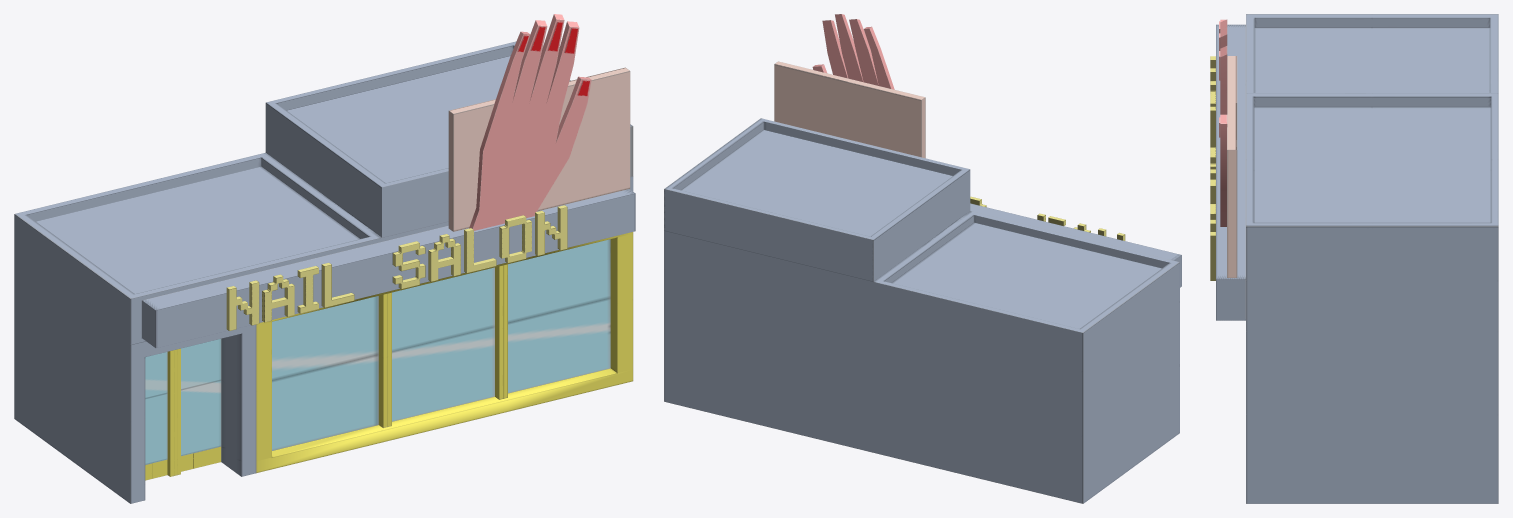
The model's file is nail_salon_withbillboard.fbx.
3 renders of one model, left to right at view 1: azimuth 30°, elevation 25°; view 2: azimuth 150°, elevation 25°; view 3: azimuth 270°, elevation 25°, orthographic. The views are drawn at different scales.
Visible parts, largest first — view 1: polySurface5, polySurface6; view 2: polySurface5; view 3: polySurface5, polySurface6.
Boxes of the visible parts, box(x1,y1,x2,y2) form: polySurface5: box(14, 14, 635, 503); polySurface6: box(226, 205, 567, 330); polySurface5: box(664, 14, 1181, 503); polySurface5: box(1216, 14, 1498, 503); polySurface6: box(1210, 56, 1215, 280).
Size of the model in its own units: 5 by 3.76 by 2.28.
1 material, 1 textured.
